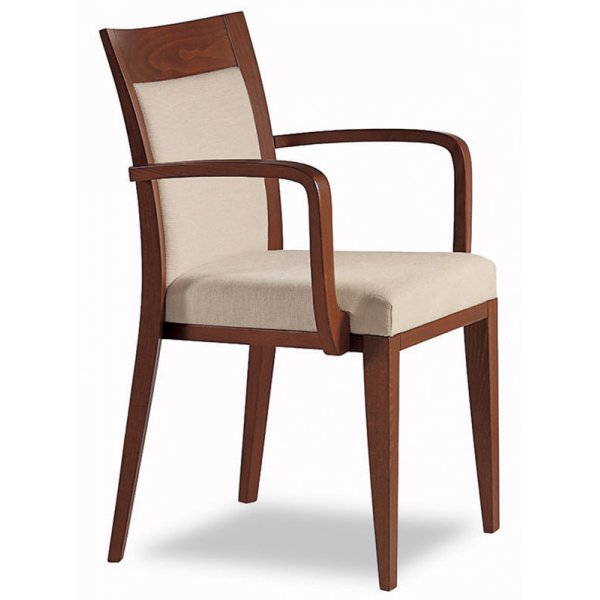chairs: (92, 12, 533, 588)
